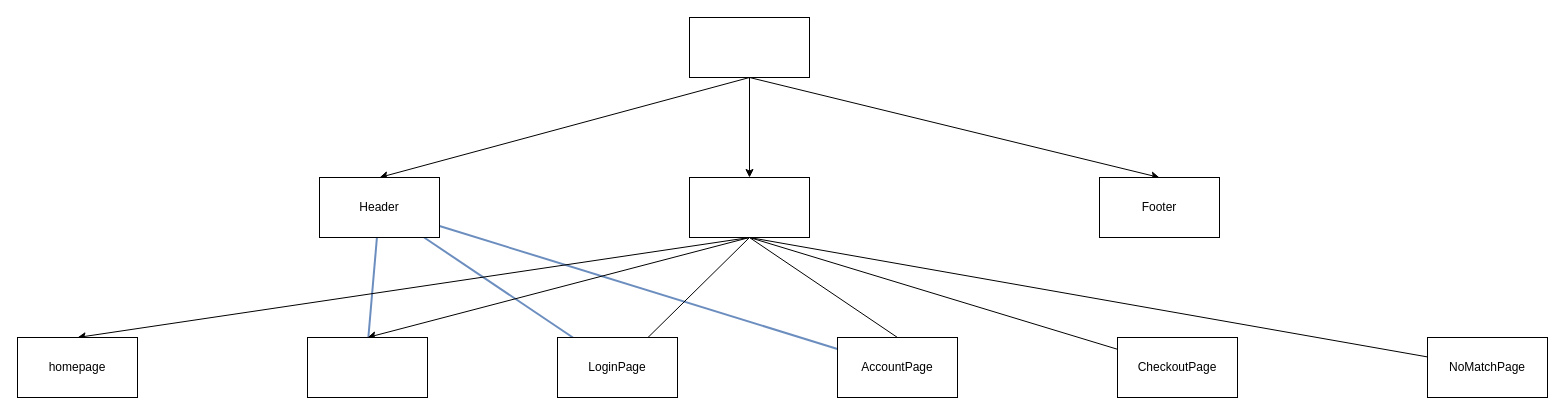
Some shapes in this 1565 by 415 pixel diagram are drawn without their labels. The shapes that lost their labels are listed below. From the top down, each one's centre as x and y in pixels, then its label:
At pixel 749 47: "App.js".
At pixel 749 207: "Routes".
At pixel 367 367: "ShopPage".
